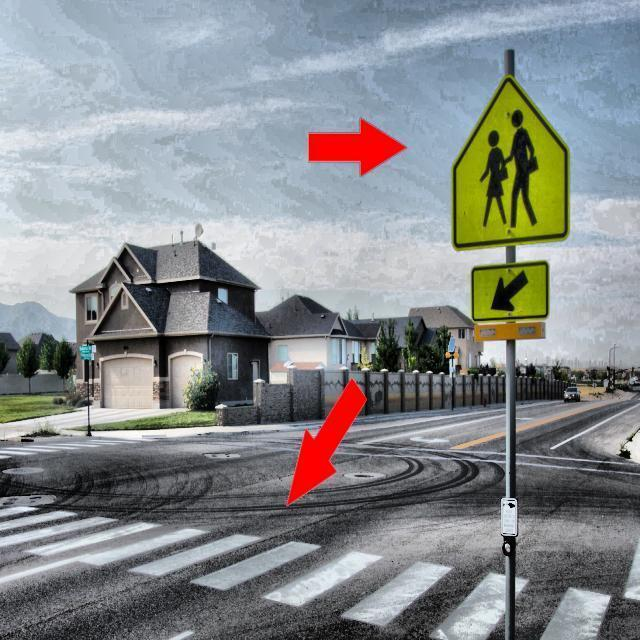crosswalk: (0, 504, 616, 640)
